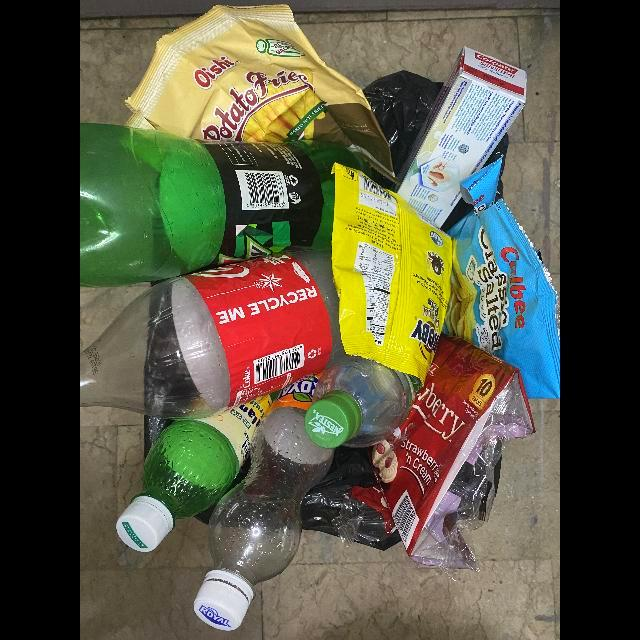cardboard: (391, 46, 527, 229)
food_wrapper: (125, 4, 398, 182), (334, 334, 536, 573), (444, 157, 560, 400), (331, 163, 452, 385)
plastic_bottle: (80, 123, 373, 288), (80, 250, 343, 421), (193, 376, 336, 631), (116, 390, 281, 553), (304, 355, 417, 449)
